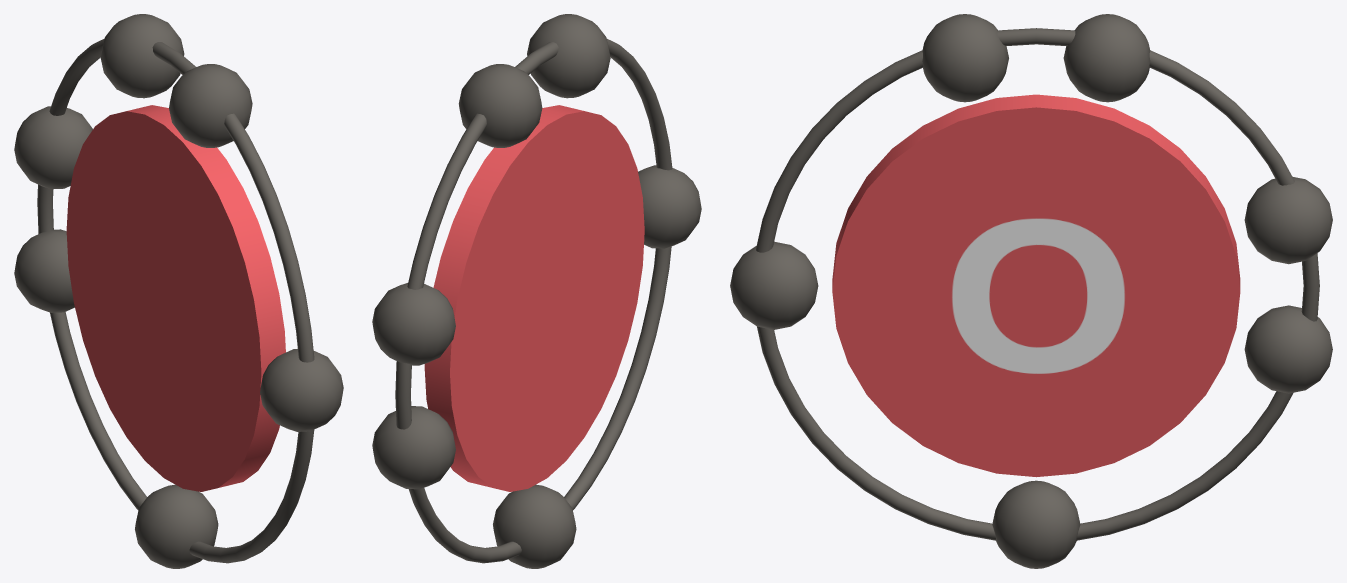
The picture shows the model from 3 angles, left to right: view 1: azimuth 30°, elevation 25°; view 2: azimuth 150°, elevation 25°; view 3: azimuth 270°, elevation 25°; orthographic projection. The views are drawn at different scales.
Parts seen in each view (by area): view 1: m_o, m_aro.006, m_ele.034, m_ele.026, m_ele.025, m_ele.035, m_ele.032, m_ele.033; view 2: m_o, m_aro.006, m_ele.032, m_ele.026, m_ele.035, m_ele.033, m_ele.025, m_ele.034; view 3: m_o, m_aro.006, m_ele.026, m_ele.025, m_ele.035, m_ele.033, m_ele.034, m_ele.032.
Boxes of the visible parts, x1,y1,x2,y2 form: m_o: (66,105,285,491); m_aro.006: (37,38,314,563); m_ele.034: (260,349,343,431); m_ele.026: (135,484,218,568); m_ele.025: (169,64,252,147); m_ele.035: (100,14,184,98); m_ele.032: (14,106,92,189); m_ele.033: (14,229,74,312); m_o: (424,105,644,491); m_aro.006: (395,39,672,563); m_ele.032: (372,283,455,365); m_ele.026: (493,484,576,568); m_ele.035: (458,64,542,147); m_ele.033: (372,406,455,489); m_ele.025: (527,14,610,98); m_ele.034: (638,165,701,248); m_o: (832,94,1240,477); m_aro.006: (756,28,1319,540); m_ele.026: (992,480,1080,568); m_ele.025: (922,14,1008,102); m_ele.035: (1063,14,1150,102); m_ele.033: (1244,305,1332,393); m_ele.034: (730,241,818,329); m_ele.032: (1244,177,1332,264).
Bounding box in the file's own units: 43.32 × 296 × 296.
